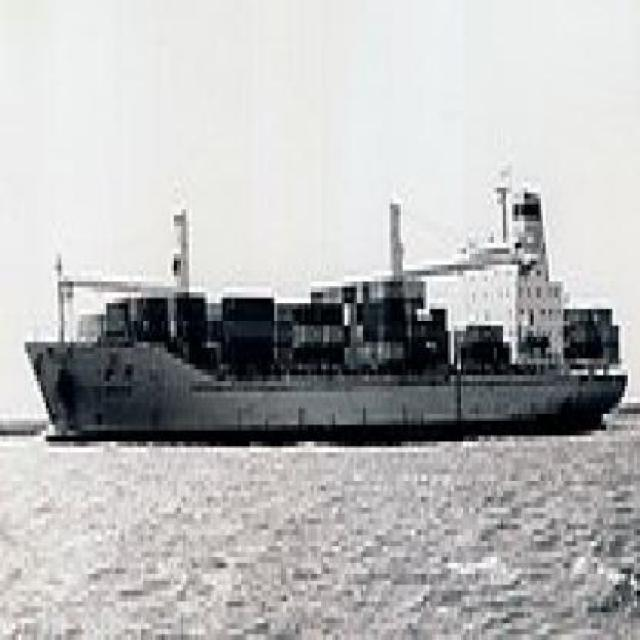container: (20, 133, 629, 464)
